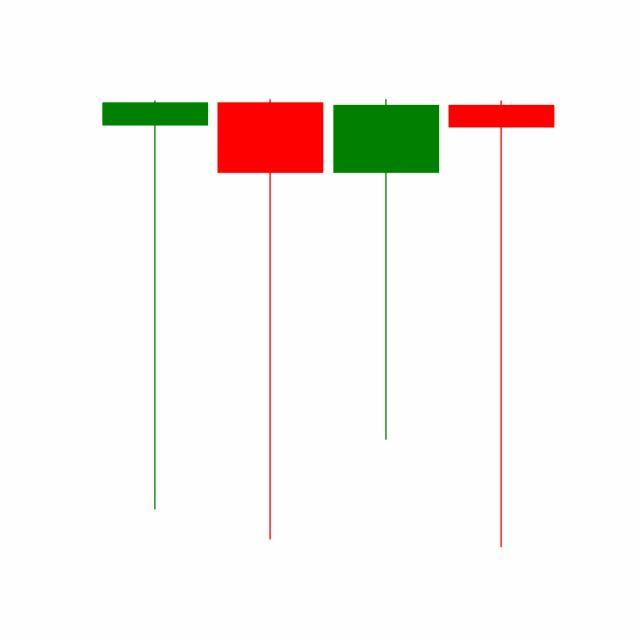Hanging Man: (444, 97, 560, 554)
